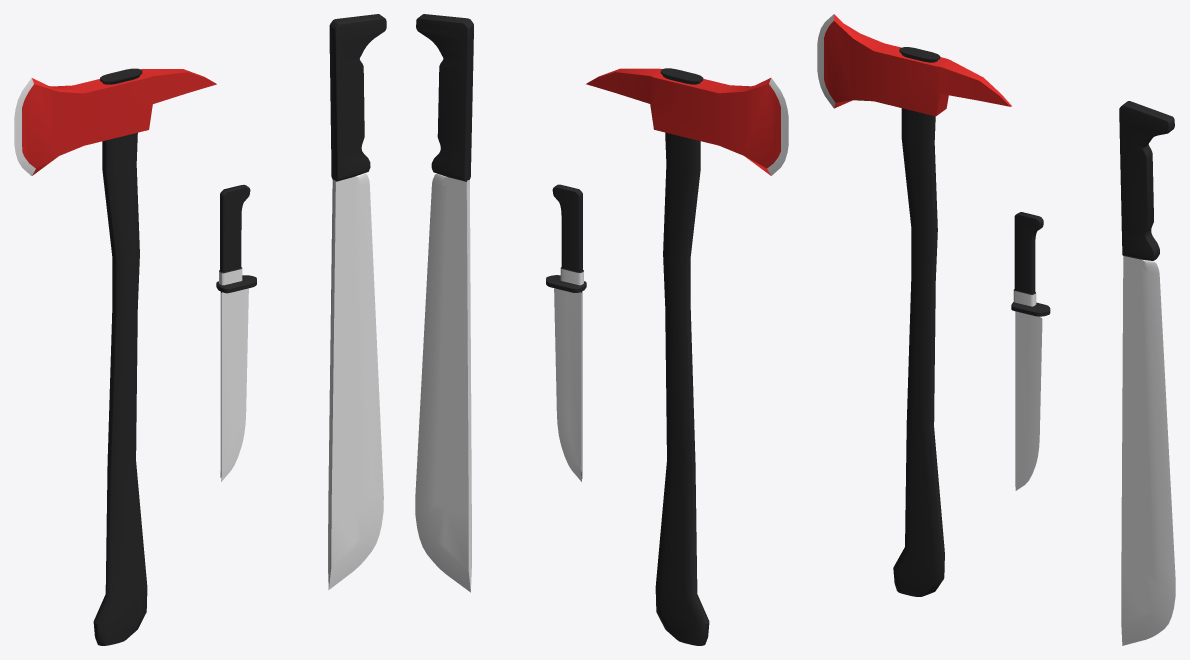
The model's file is Toolset2.glb.
The picture shows the model from 3 angles, left to right: view 1: azimuth 30°, elevation 25°; view 2: azimuth 150°, elevation 25°; view 3: azimuth 330°, elevation 25°; orthographic projection. The views are drawn at different scales.
Visible parts, largest first — view 1: Cube.002, Plane.001, Cube.001; view 2: Cube.002, Plane.001, Cube.001; view 3: Cube.002, Plane.001, Cube.001.
Part boxes in pixels (box(x1,y1,x2,y2)): Cube.002: box(14, 68, 216, 645); Plane.001: box(328, 14, 386, 589); Cube.001: box(216, 184, 256, 481); Cube.002: box(586, 68, 788, 645); Plane.001: box(415, 14, 473, 592); Cube.001: box(546, 184, 586, 481); Cube.002: box(817, 14, 1011, 596); Plane.001: box(1119, 101, 1175, 645); Cube.001: box(1011, 212, 1050, 490).
Bounding box in the file's own units: 24.2 × 36.5 × 1.25.
